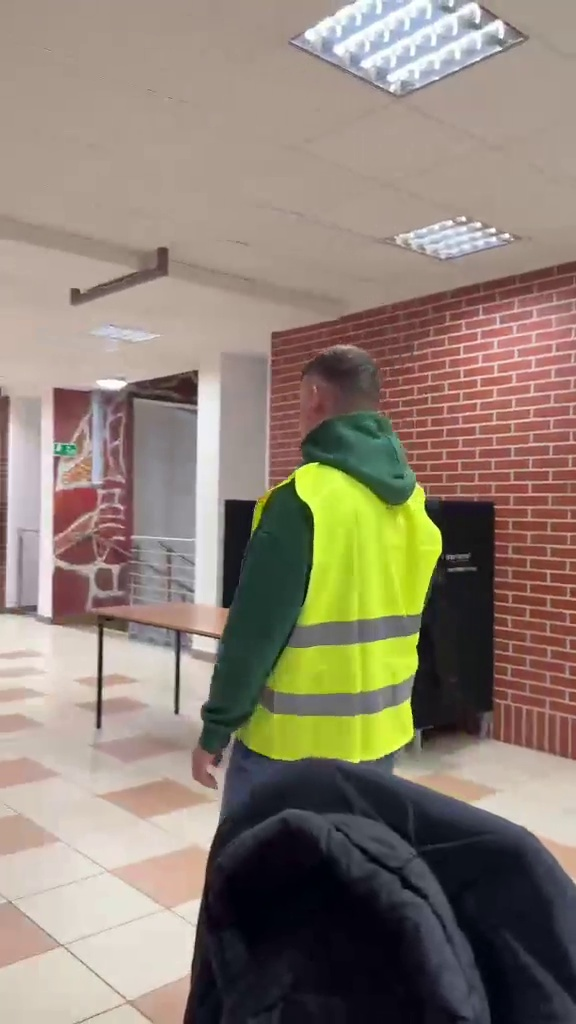vest: (198, 346, 439, 786)
